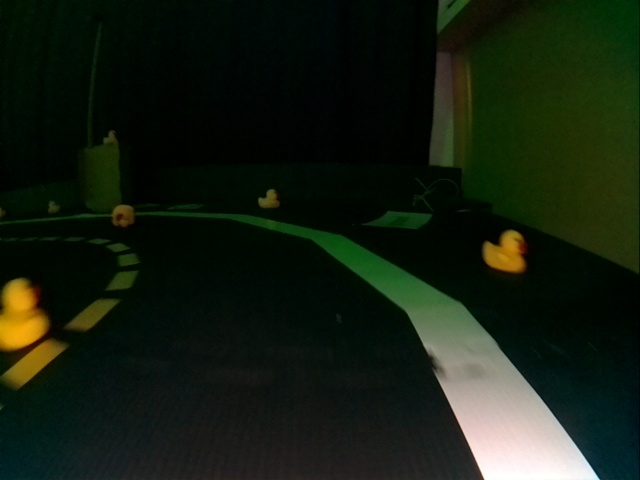Duckie: (1, 277, 49, 349), (485, 230, 527, 273), (112, 205, 133, 227), (259, 189, 279, 208), (49, 201, 60, 213)
